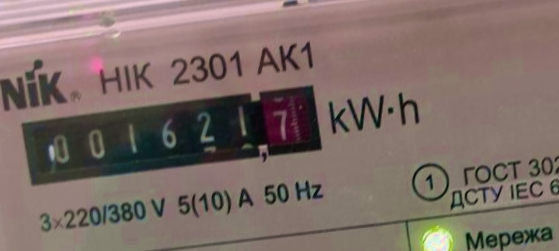0: (83, 125, 109, 164), (49, 131, 72, 166)
1: (233, 102, 250, 140), (123, 120, 140, 157)
2: (193, 109, 218, 146)
6: (157, 116, 179, 152)
7: (269, 107, 292, 144)
screen: (15, 82, 329, 192)
